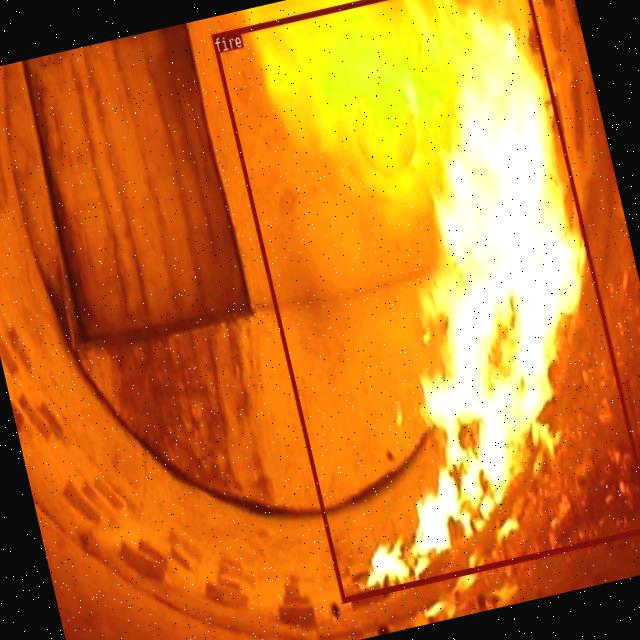fire: (210, 0, 640, 601)
